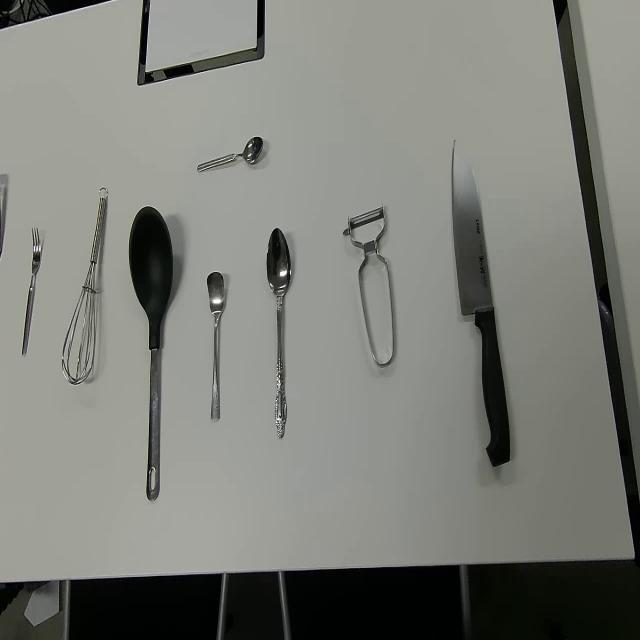Desert-Spoon: (266, 226, 292, 441)
Dinner-Fork: (20, 225, 42, 360)
Kitchen-Knife: (451, 138, 511, 469)
Peeler: (342, 202, 395, 368)
Serving-Spoon: (126, 203, 174, 502), (0, 162, 4, 279)
Tea-Spoon: (206, 270, 225, 422), (196, 134, 265, 174)
Whisk: (60, 187, 108, 385)
